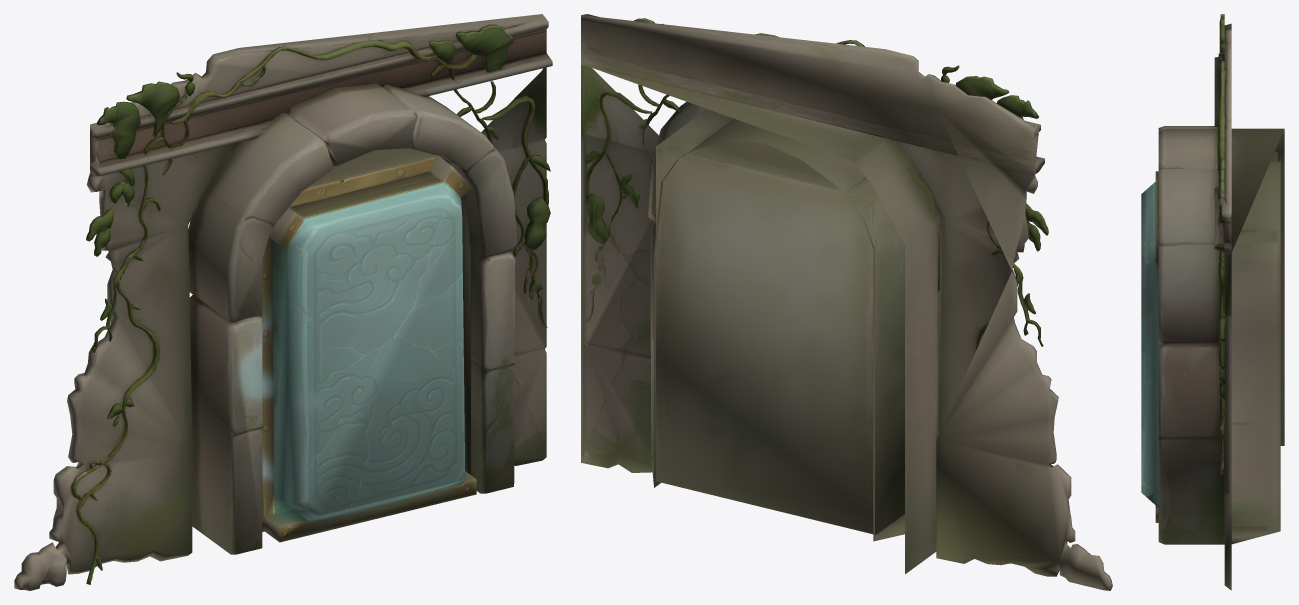
Rendered from selected.glb.
3 renders of one model, left to right at view 1: azimuth 30°, elevation 25°; view 2: azimuth 150°, elevation 25°; view 3: azimuth 270°, elevation 25°, orthographic. The views are drawn at different scales.
Parts seen in each view (by area): view 1: tripo_node_d085deb2-8883-4bf1-b069-48140ea7d123; view 2: tripo_node_d085deb2-8883-4bf1-b069-48140ea7d123; view 3: tripo_node_d085deb2-8883-4bf1-b069-48140ea7d123.
Boxes of the visible parts, bbox=[...] form: tripo_node_d085deb2-8883-4bf1-b069-48140ea7d123: bbox=[14, 14, 552, 590]; tripo_node_d085deb2-8883-4bf1-b069-48140ea7d123: bbox=[581, 14, 1112, 590]; tripo_node_d085deb2-8883-4bf1-b069-48140ea7d123: bbox=[1141, 14, 1284, 590].
Size of the model in its own units: 0.998 by 0.8926 by 0.2754.
1 material, 1 textured.
